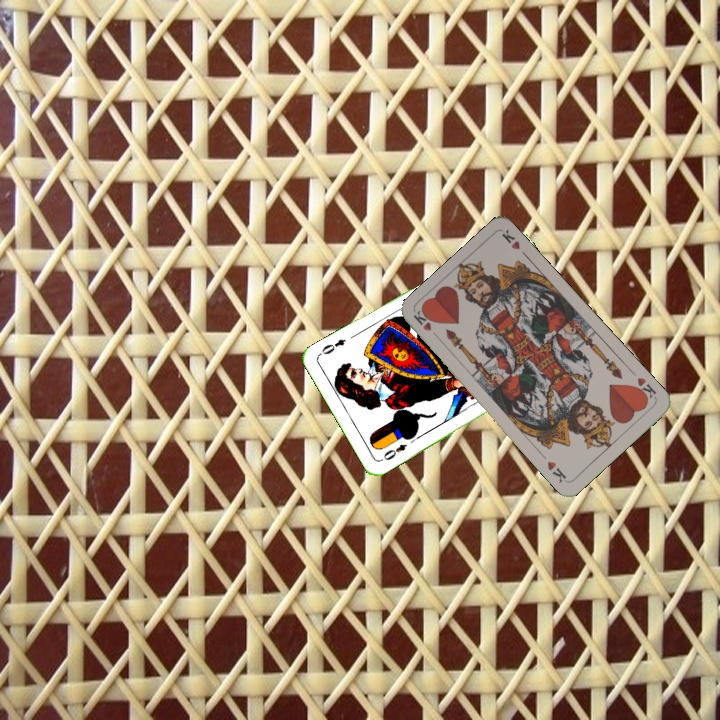EO: (377, 440, 410, 464)
HK: (410, 307, 443, 343), (630, 373, 659, 403)
